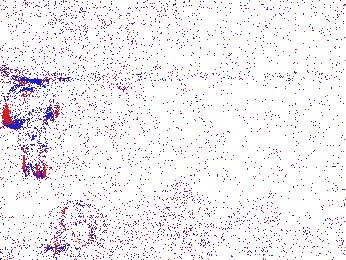flame jellyfish: (3, 80, 61, 179), (47, 200, 109, 254), (228, 195, 278, 246)
